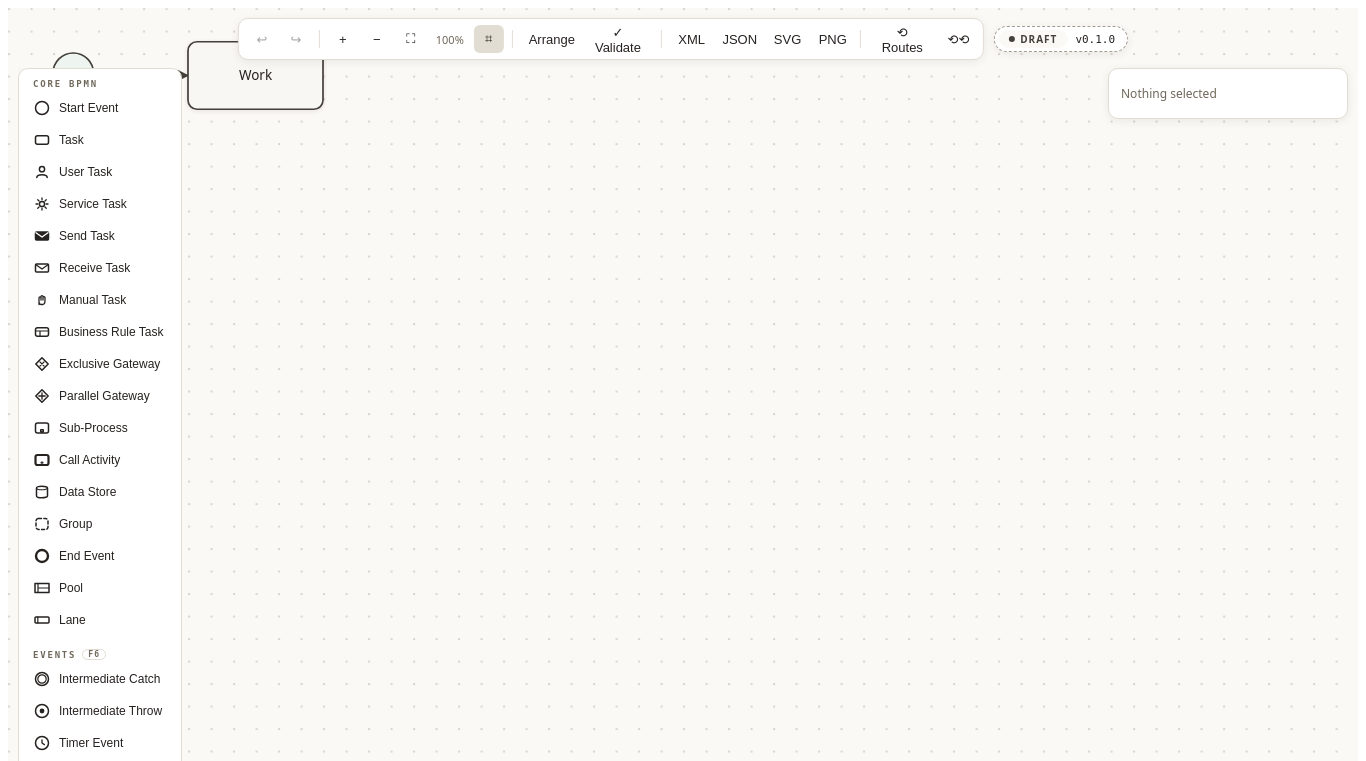
BpmnEditor chrome › validates and lists issues
Click the button with aria-label "Validate diagram": (618, 39) left=582, top=25, right=653, bottom=53
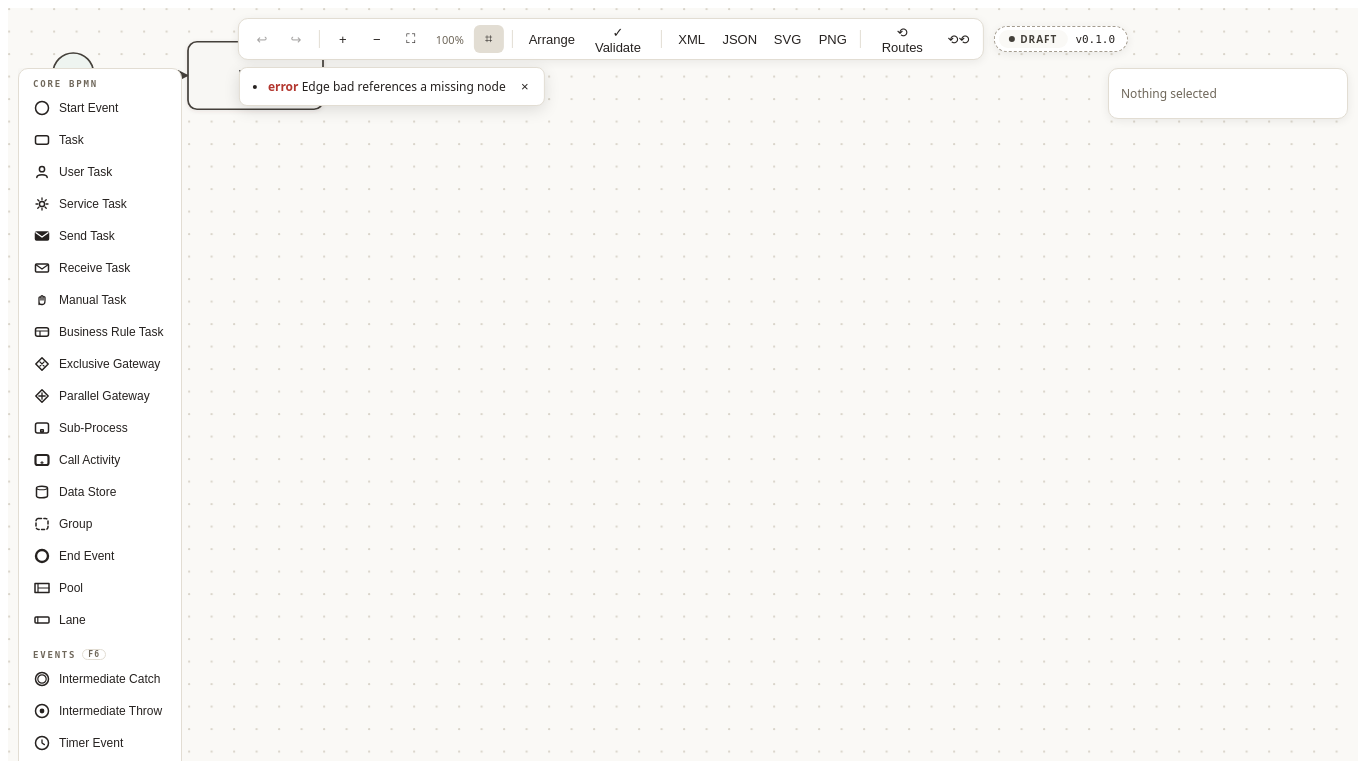
Check: the list item "error Edge bad references a missing node" is shown, box left=268, top=78, right=512, bottom=95
